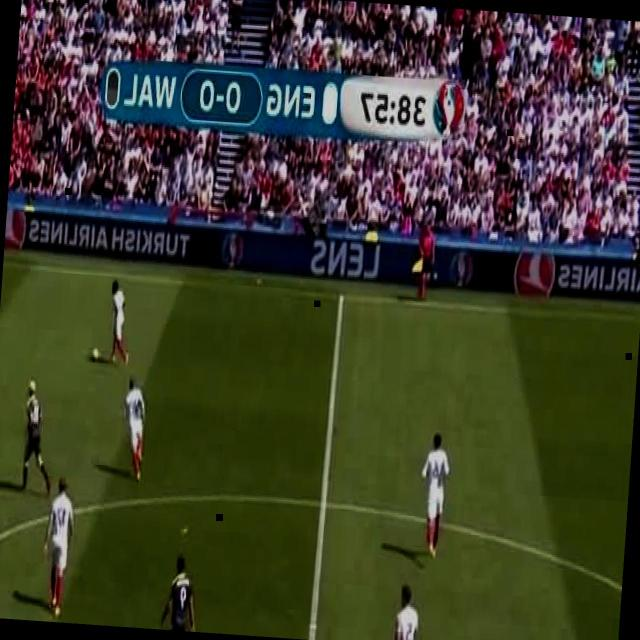ball: (91, 347, 100, 363)
player-white: (38, 475, 78, 621), (416, 434, 454, 560), (19, 377, 59, 493), (160, 554, 203, 632), (118, 378, 150, 482), (107, 278, 134, 369), (393, 582, 425, 640), (417, 221, 437, 302)
